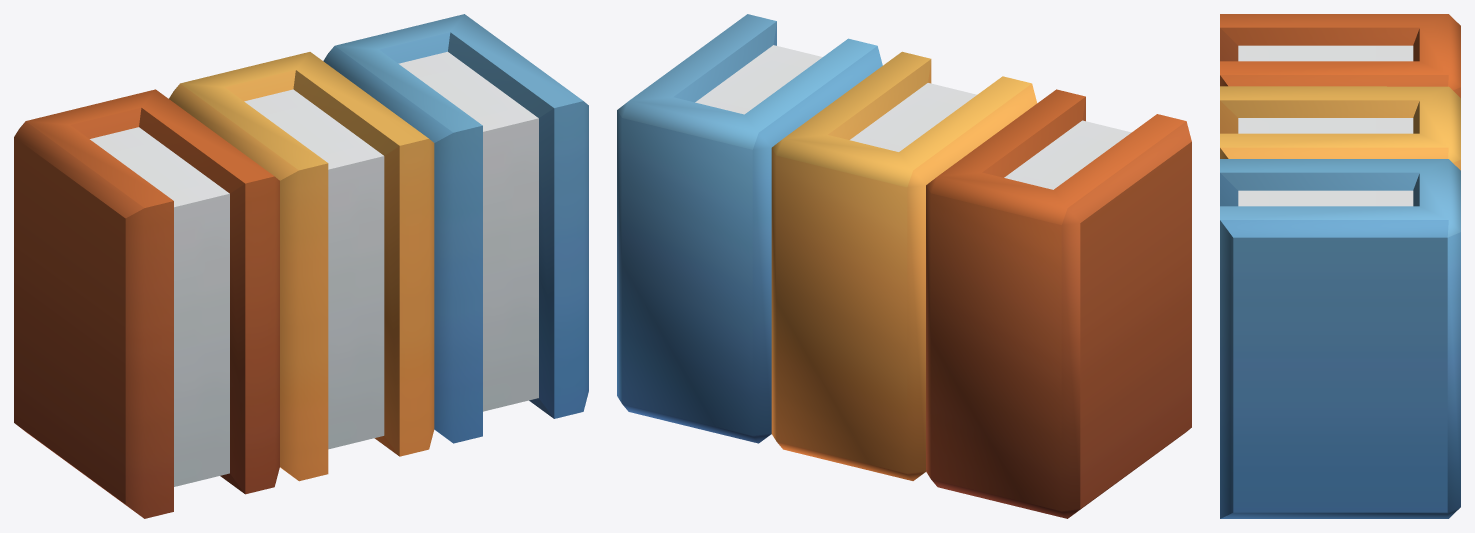
File: kkf.book_set.glb
The picture shows the model from 3 angles, left to right: view 1: azimuth 30°, elevation 25°; view 2: azimuth 150°, elevation 25°; view 3: azimuth 270°, elevation 25°; orthographic projection. The views are drawn at different scales.
Parts seen in each view (by area): view 1: book_set; view 2: book_set; view 3: book_set.
Boxes of the visible parts, x1=… form: book_set: x1=14, y1=14, x2=588, y2=518; book_set: x1=617, y1=14, x2=1191, y2=518; book_set: x1=1220, y1=14, x2=1460, y2=518.
Bounding box in the file's own units: 0.279 × 0.1789 × 0.1306.
1 material, 1 textured.
